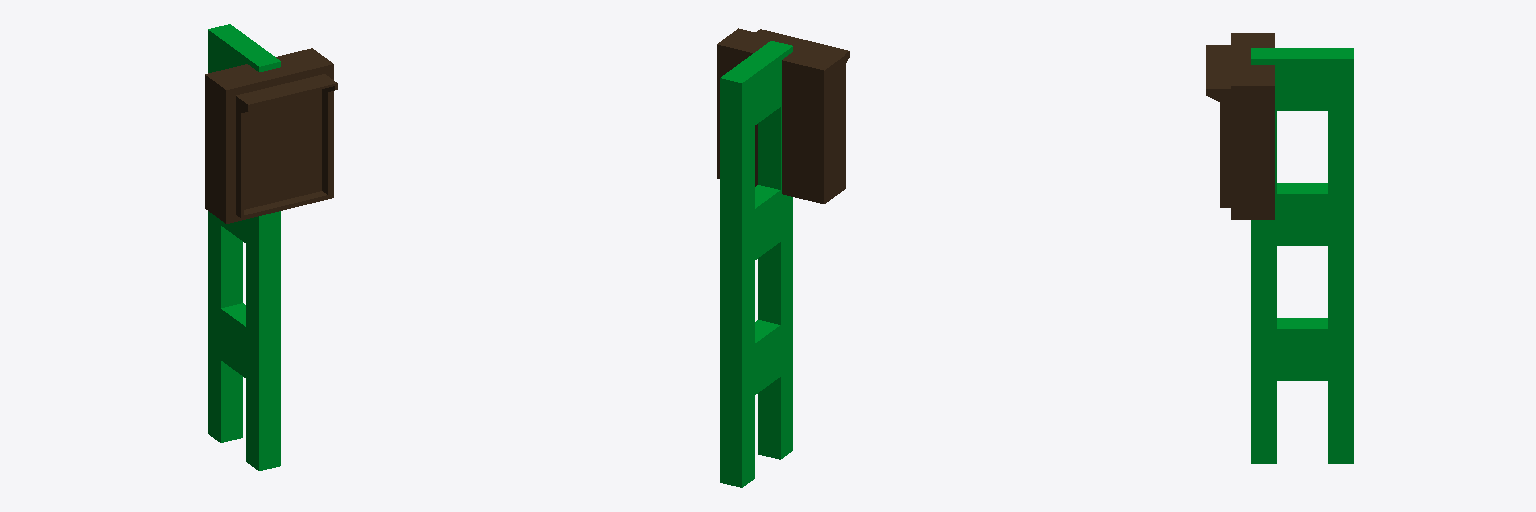
Rendered from advtrains_signals_ks_zs_bottom.obj.
3 views of the same model, side by side, from view 1: azimuth 30°, elevation 25°; view 2: azimuth 150°, elevation 25°; view 3: azimuth 270°, elevation 25° (orthographic).
Visible parts, largest first — view 1: HsVsAnzUnten_Cube.009; view 2: HsVsAnzUnten_Cube.009; view 3: HsVsAnzUnten_Cube.009.
Part boxes in pixels (x1,y1,x2,y2): HsVsAnzUnten_Cube.009: (205, 24, 337, 470); HsVsAnzUnten_Cube.009: (717, 28, 849, 487); HsVsAnzUnten_Cube.009: (1206, 33, 1353, 463).
Bounding box in the file's own units: 0.2765 × 0.9935 × 0.3292.